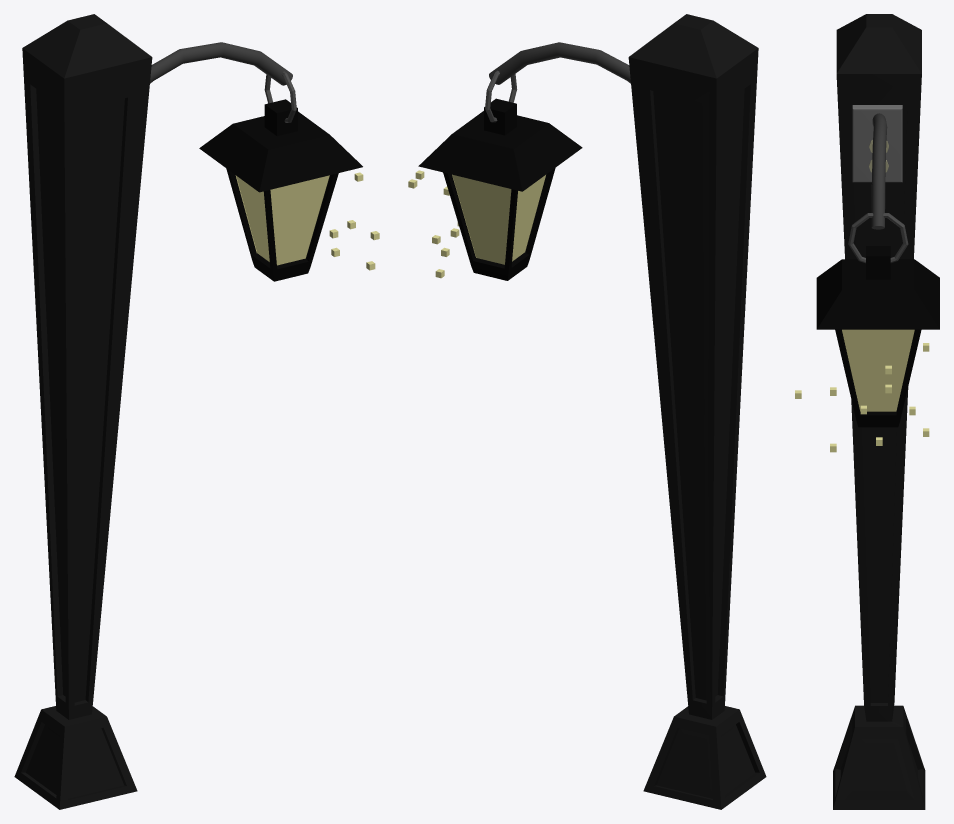
The model's file is lamba son hali.fbx.
3 renders of one model, left to right at view 1: azimuth 30°, elevation 25°; view 2: azimuth 150°, elevation 25°; view 3: azimuth 270°, elevation 25°, orthographic. The views are drawn at different scales.
Parts seen in each view (by area): view 1: pCube14; view 2: pCube14; view 3: pCube14.
Boxes of the visible parts, x1,y1,x2,y2 form: pCube14: (14,14,379,809); pCube14: (408,14,766,809); pCube14: (795,14,939,809).
Bounding box in the file's own units: 4.24 × 9.35 × 1.58.
